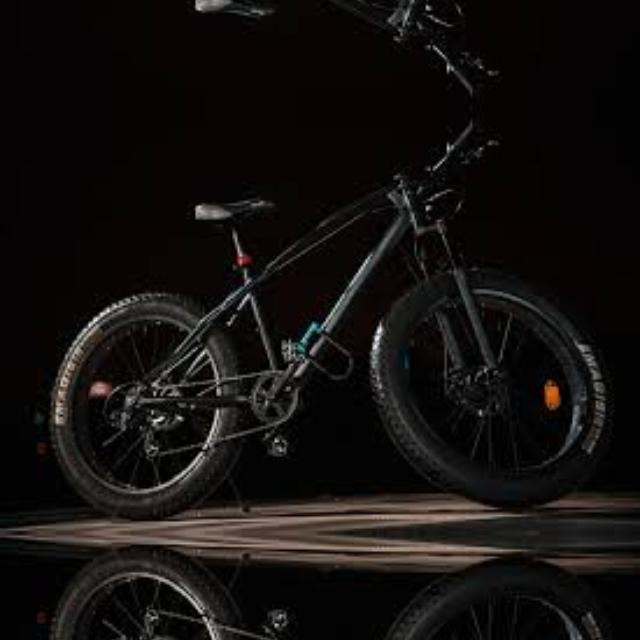obstacle: (21, 116, 631, 512), (21, 0, 631, 98), (21, 554, 631, 640)
